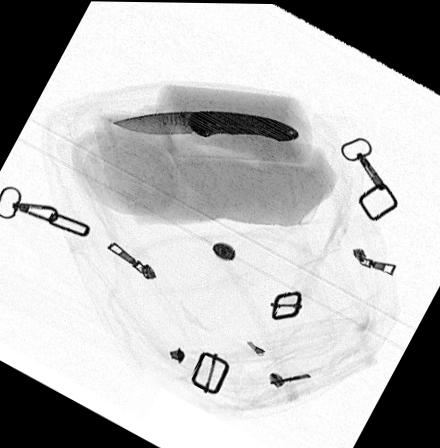Knife: (109, 109, 298, 140)
